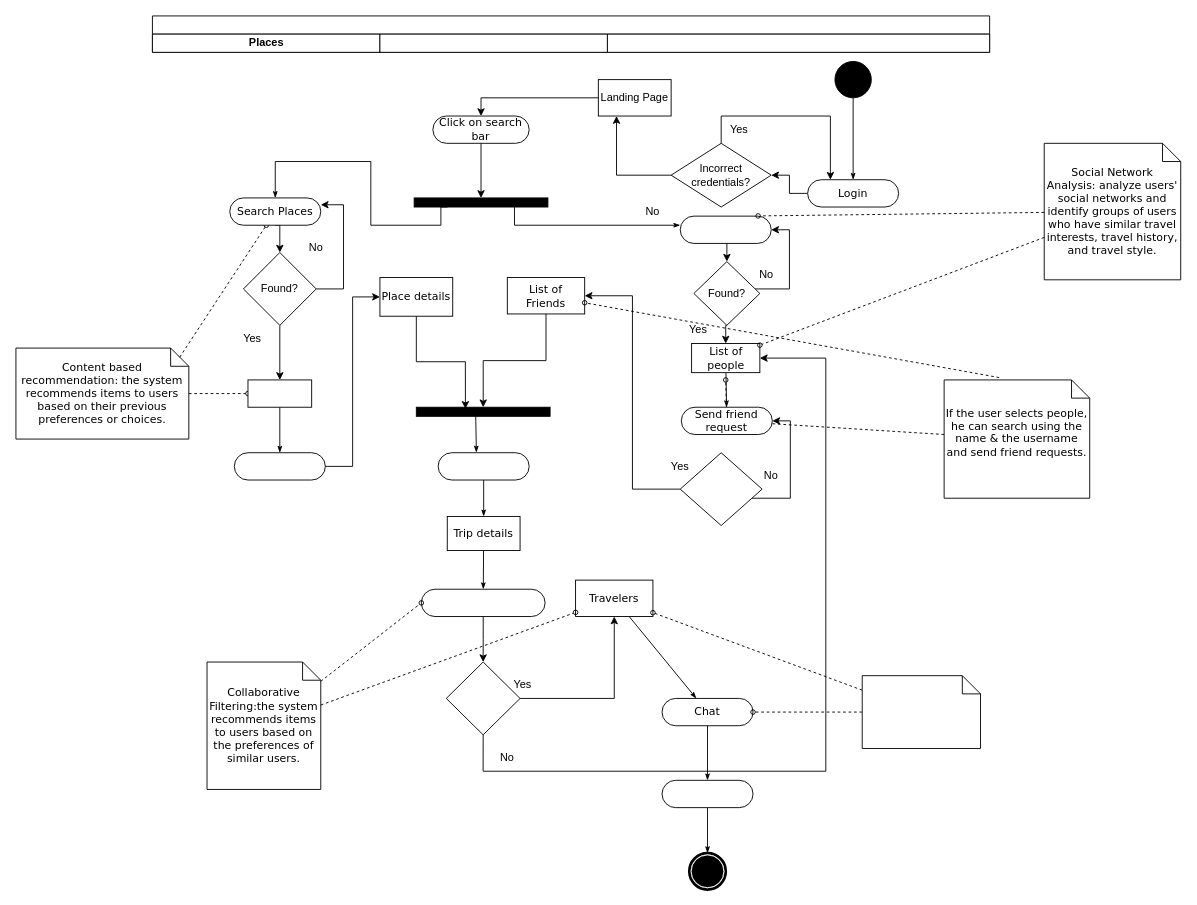
Some shapes in this 1197 by 905 pixel diagram are drawn without their labels. Here are the shapes that lost their labels. From the top down, the box of each, then its label:
(607, 33, 990, 52): People
(679, 215, 771, 243): Find People
(247, 379, 312, 407): Places results
(233, 452, 325, 480): Select a Place
(437, 452, 529, 480): Plan a trip
(679, 452, 762, 526): Request Accepted?
(420, 588, 545, 617): Invite People to Trip
(445, 661, 520, 735): Invitation accepted?
(861, 675, 981, 748): Travelers can communicate using our chat platform
(661, 779, 753, 808): Logout
